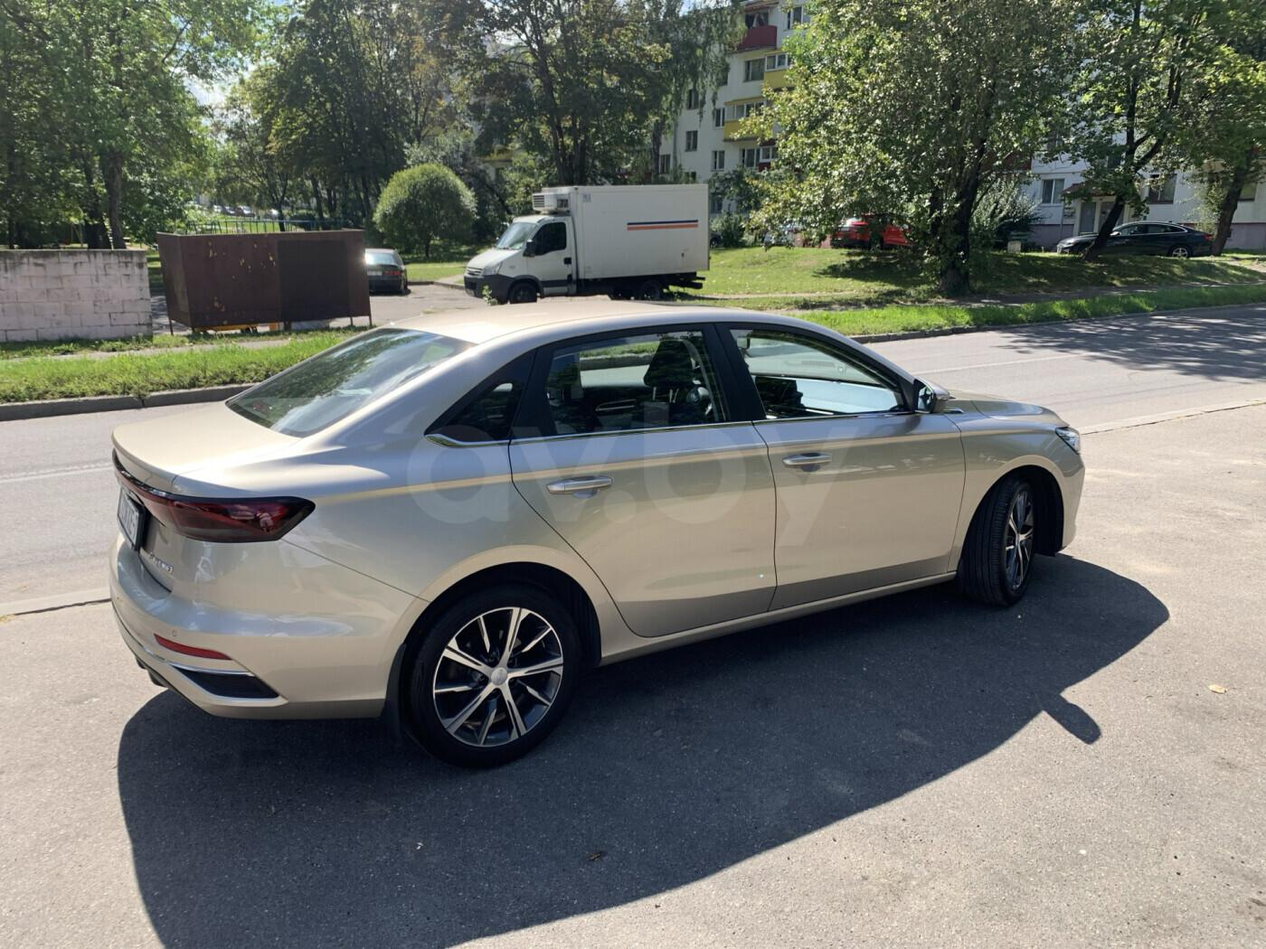Emgrand_2021: (102, 294, 1083, 768)
